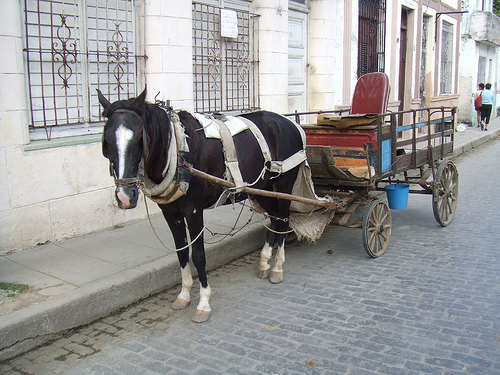horse: (95, 86, 310, 325)
